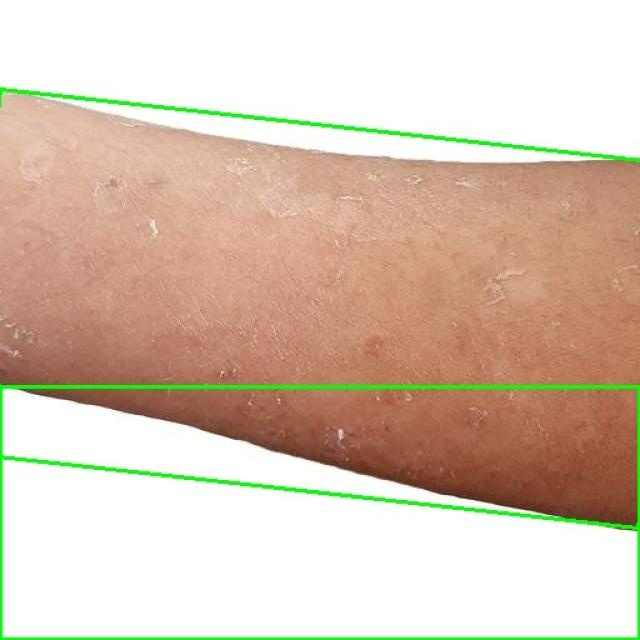Tinea Corporis: (0, 89, 640, 528), (0, 386, 639, 639)
